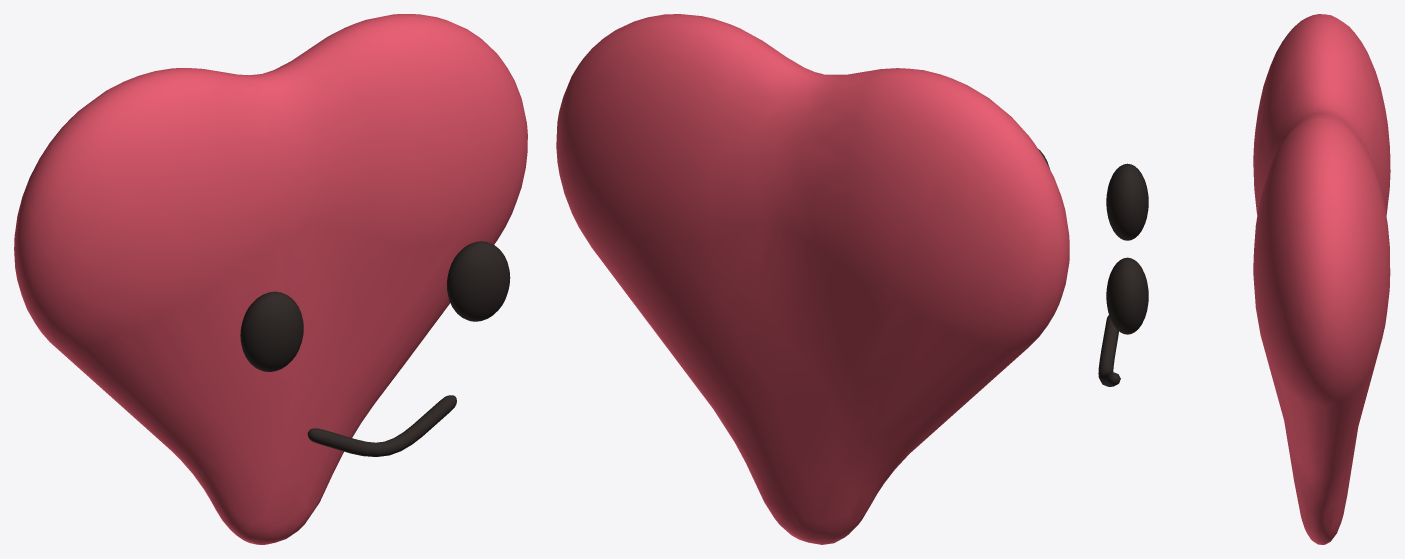
Rendered from deco_corazon_peluche.glb.
3 renders of one model, left to right at view 1: azimuth 30°, elevation 25°; view 2: azimuth 150°, elevation 25°; view 3: azimuth 270°, elevation 25°, orthographic. The views are drawn at different scales.
Parts seen in each view (by area): view 1: corazón peluche.001, ojo corazón -1.001, ojo corazón 1.001, sonrisa corazón.001; view 2: corazón peluche.001; view 3: corazón peluche.001, ojo corazón 1.001, ojo corazón -1.001, sonrisa corazón.001.
Part boxes in pixels (box(x1,y1,x2,y2)): corazón peluche.001: box(14, 14, 527, 544); ojo corazón -1.001: box(240, 291, 303, 371); ojo corazón 1.001: box(446, 241, 510, 321); sonrisa corazón.001: box(307, 395, 456, 456); corazón peluche.001: box(556, 14, 1069, 544); corazón peluche.001: box(1253, 14, 1390, 544); ojo corazón 1.001: box(1106, 257, 1148, 334); ojo corazón -1.001: box(1106, 163, 1148, 240); sonrisa corazón.001: box(1098, 315, 1120, 386).
Size of the model in its own units: 0.1954 by 0.1833 by 0.1052.
